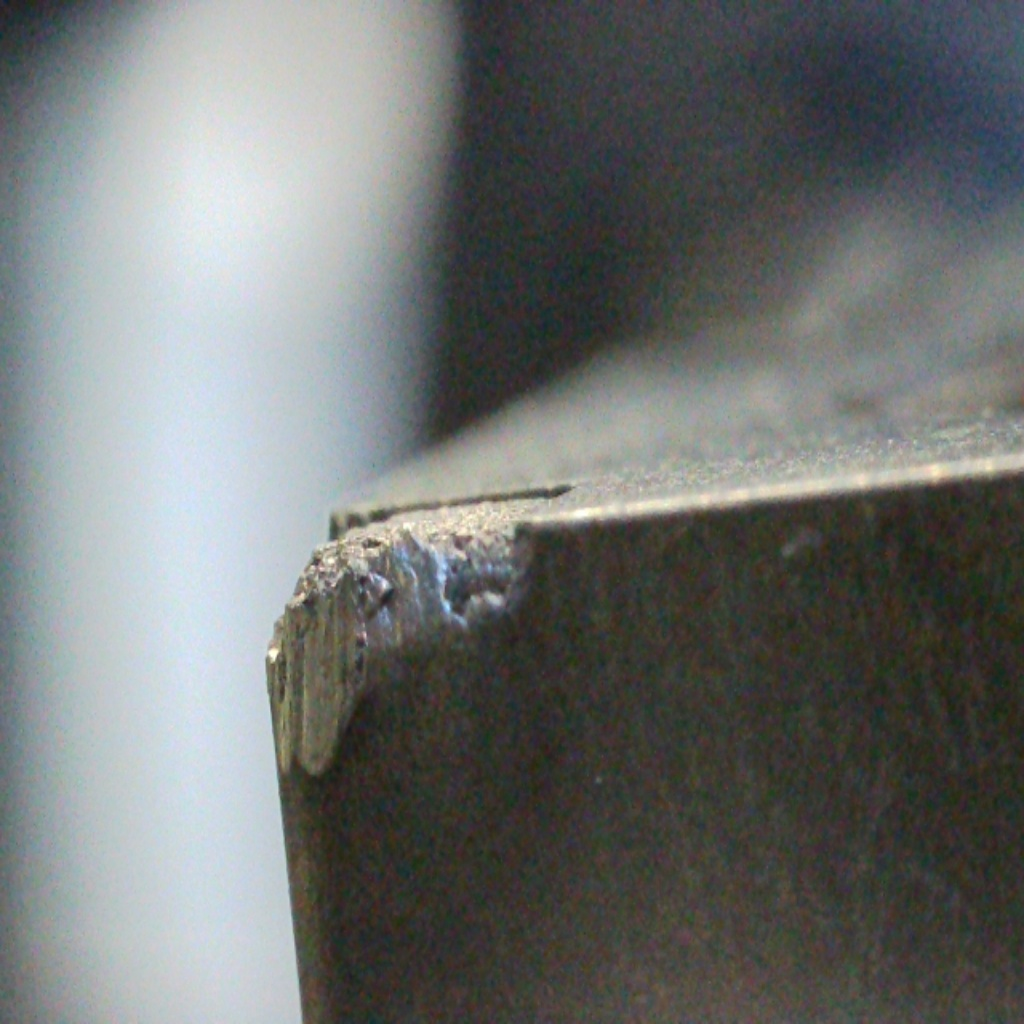flank_wear: (274, 557, 383, 779)
